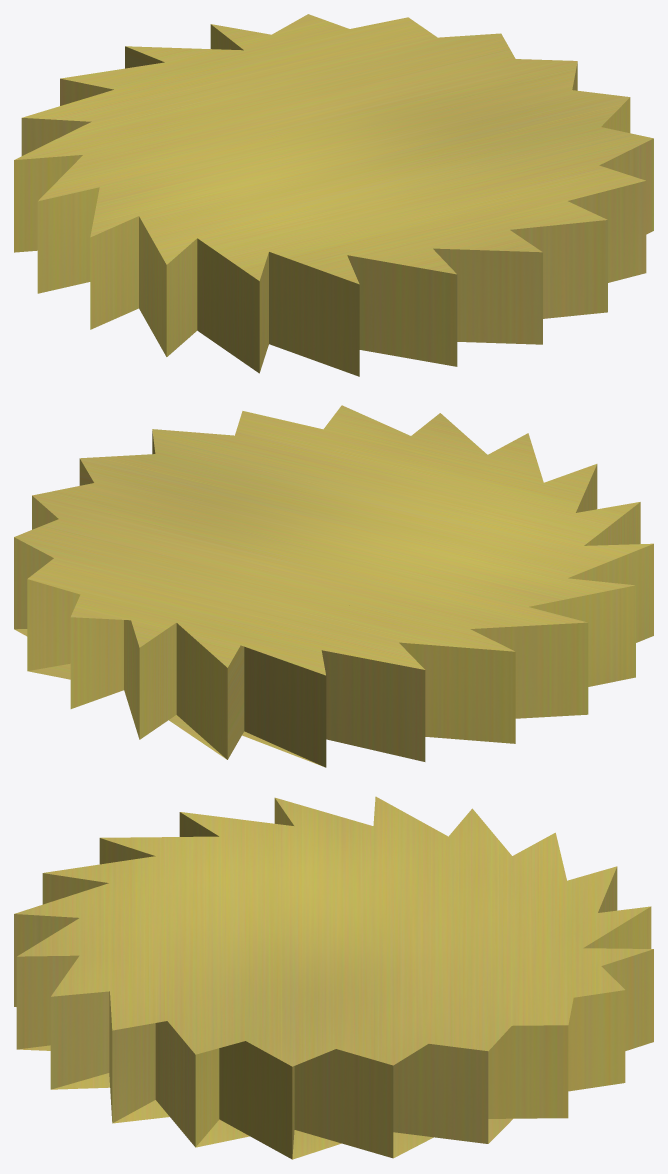
The model's file is ClockAngle3Spoke020.fbx.
3 views of the same model, one above another, from view 1: azimuth 30°, elevation 25°; view 2: azimuth 150°, elevation 25°; view 3: azimuth 270°, elevation 25° (orthographic).
Parts seen in each view (by area): view 1: ClockAngle3Spoke020; view 2: ClockAngle3Spoke020; view 3: ClockAngle3Spoke020.
Part boxes in pixels (x1,y1,x2,y2): ClockAngle3Spoke020: (14,14,653,376); ClockAngle3Spoke020: (14,405,653,767); ClockAngle3Spoke020: (14,796,653,1159).
Size of the model in its own units: 123 by 19.69 by 123.
